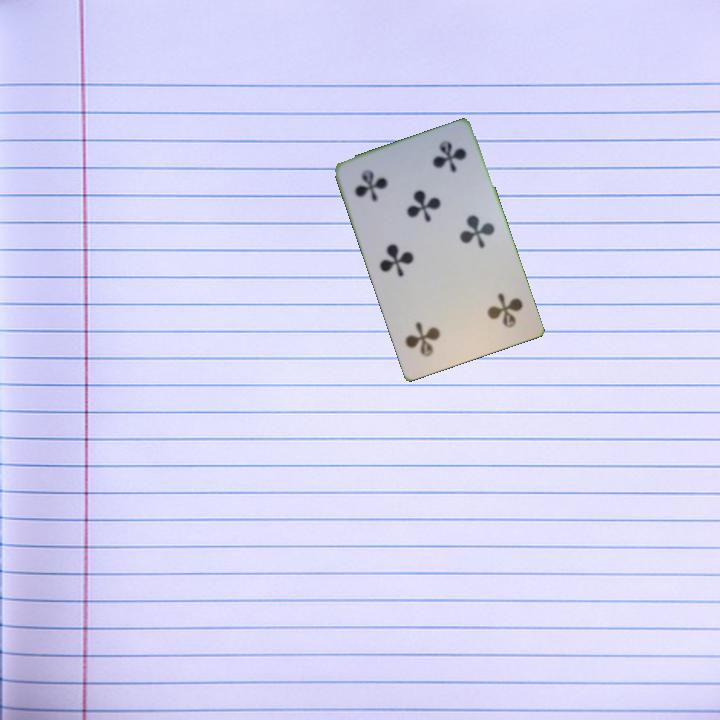c_7.png: (344, 149, 424, 224), (452, 274, 532, 349)
